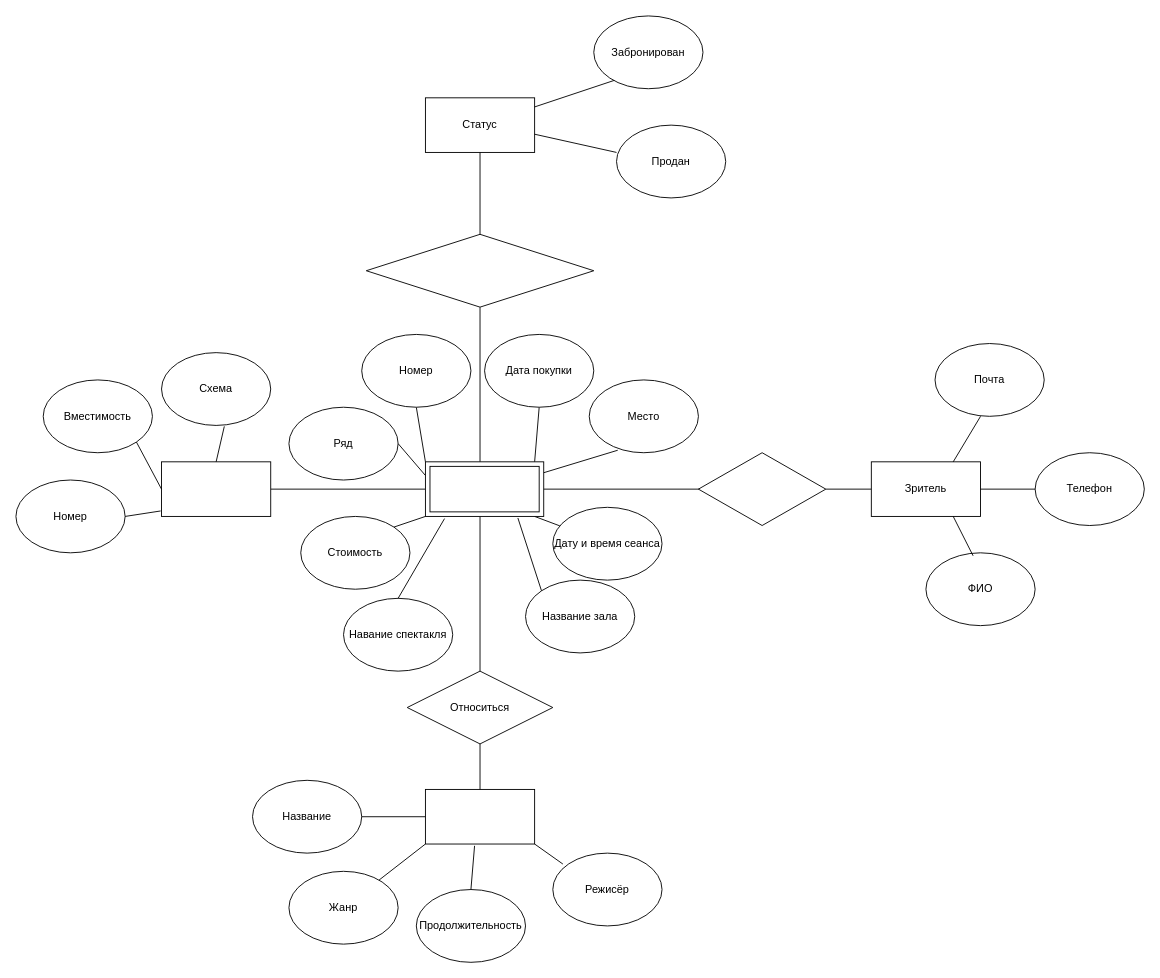
This 1160x978 diagram has some shape labels left out. The centre of each missing label's shape, as x and y in pixels:
"Билет" belongs at pixel 484 488.
"Бронирует" belongs at pixel 762 489.
"Зал" belongs at pixel 216 488.
"Спектакль" belongs at pixel 480 816.
"Характерезуется" belongs at pixel 479 270.
